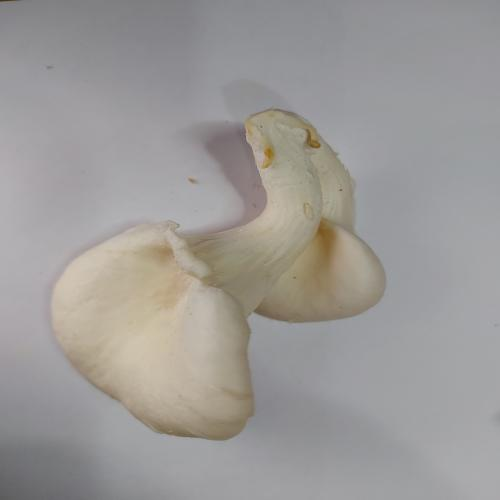Oyster Mushroom: (49, 107, 326, 441)
